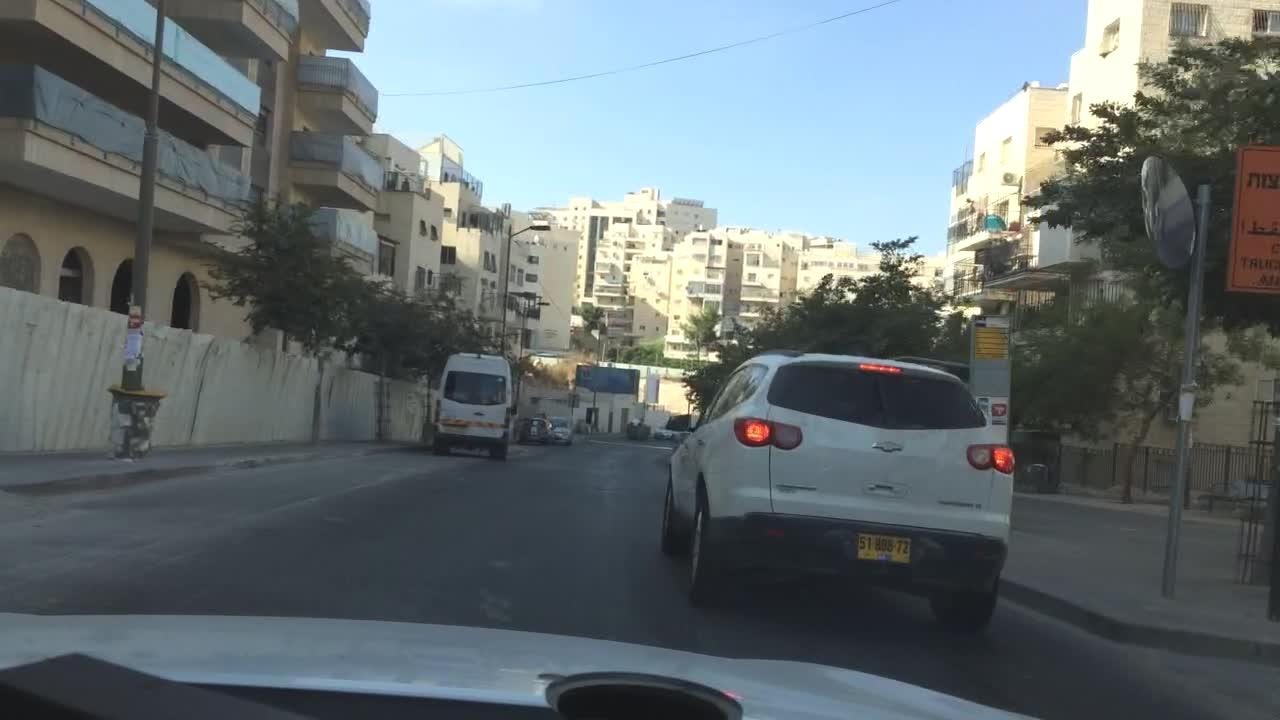chevrolet: (867, 431, 911, 462)
